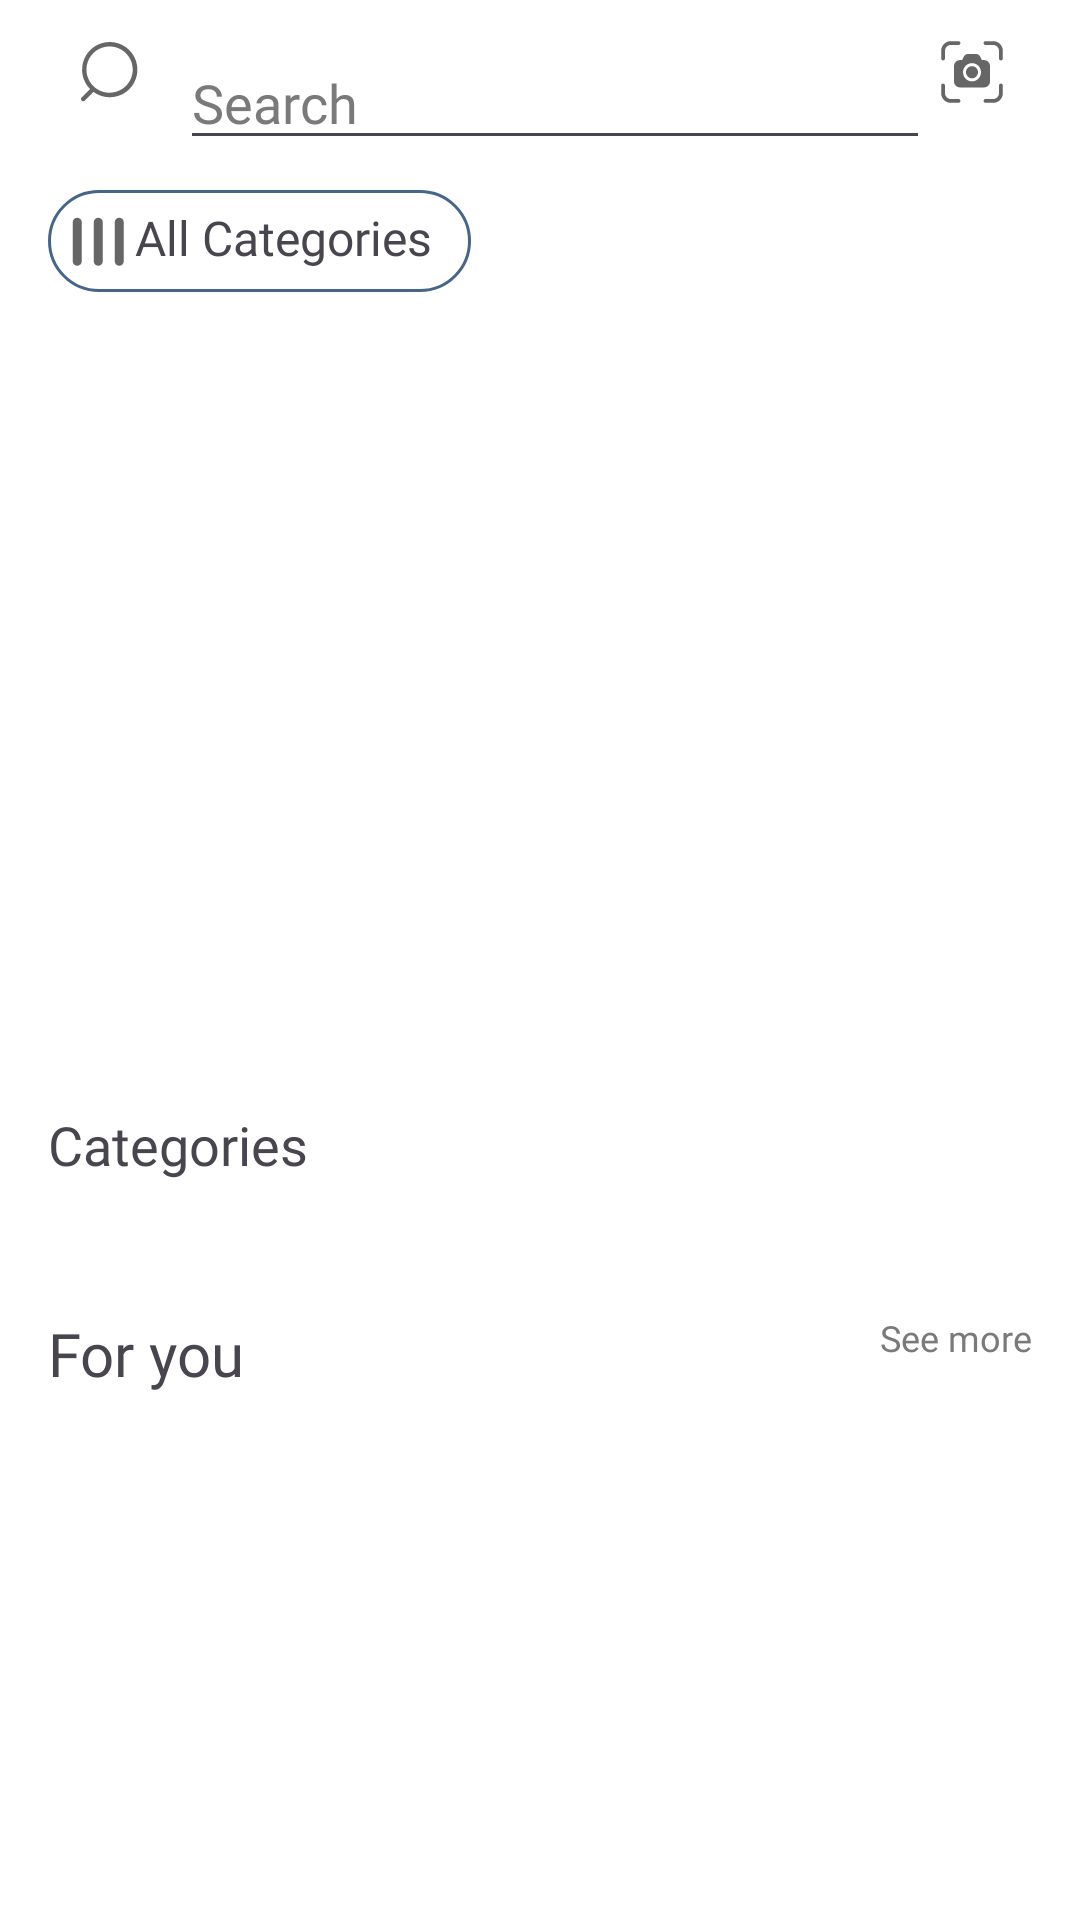

Named icons in this screenshot (1080px×1920px) and their bounding boxes, (x1, y1, x2, y2):
fluent scan camera: (941, 41, 1003, 103)
magnifier: (81, 42, 138, 102)
